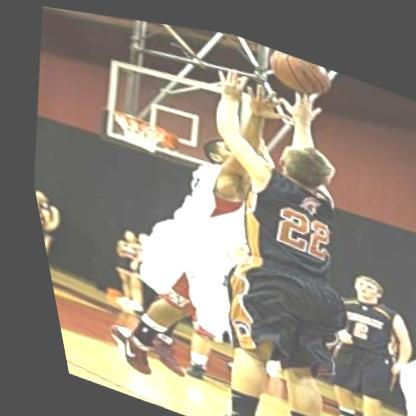basketball: (261, 39, 332, 89)
